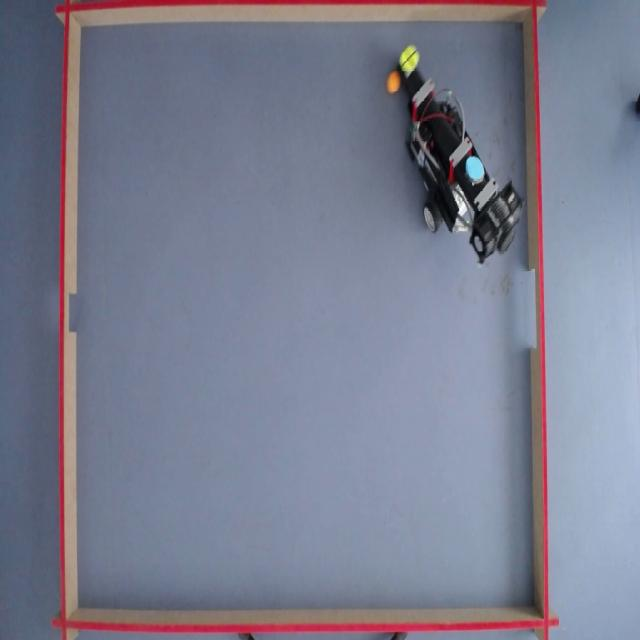orange: (388, 71, 402, 96)
robot: (393, 75, 530, 263)
robot-front: (398, 44, 420, 76)
robot-rear: (466, 152, 486, 182)
